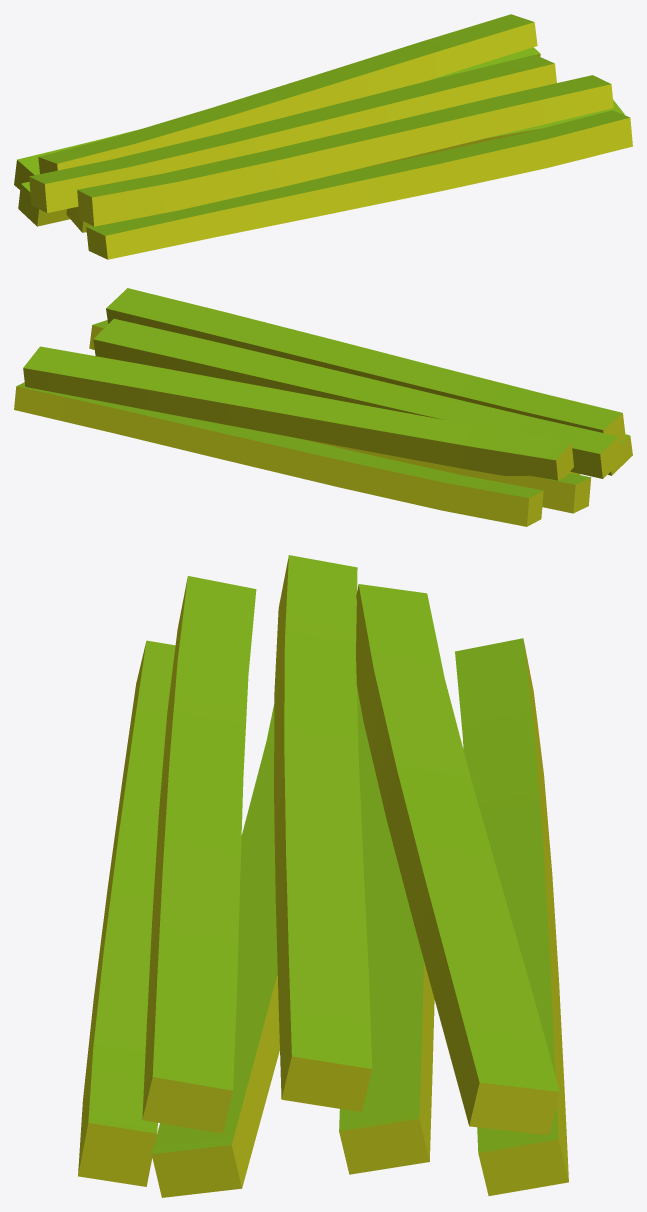
The model's file is quaternius-sushi-restaurant-foodingredient-slicedcucumber.glb.
3 views of the same model, one above another, from view 1: azimuth 30°, elevation 25°; view 2: azimuth 150°, elevation 25°; view 3: azimuth 270°, elevation 25° (orthographic). The views are drawn at different scales.
Parts seen in each view (by area): view 1: FoodIngredient_SlicedCucumber; view 2: FoodIngredient_SlicedCucumber; view 3: FoodIngredient_SlicedCucumber.
Boxes of the visible parts, box(x1,y1,x2,y2) form: FoodIngredient_SlicedCucumber: box(14, 14, 632, 259); FoodIngredient_SlicedCucumber: box(14, 288, 632, 526); FoodIngredient_SlicedCucumber: box(78, 555, 568, 1197).
Size of the model in its own units: 1 by 0.1075 by 0.3944.
1 material, 1 textured.
